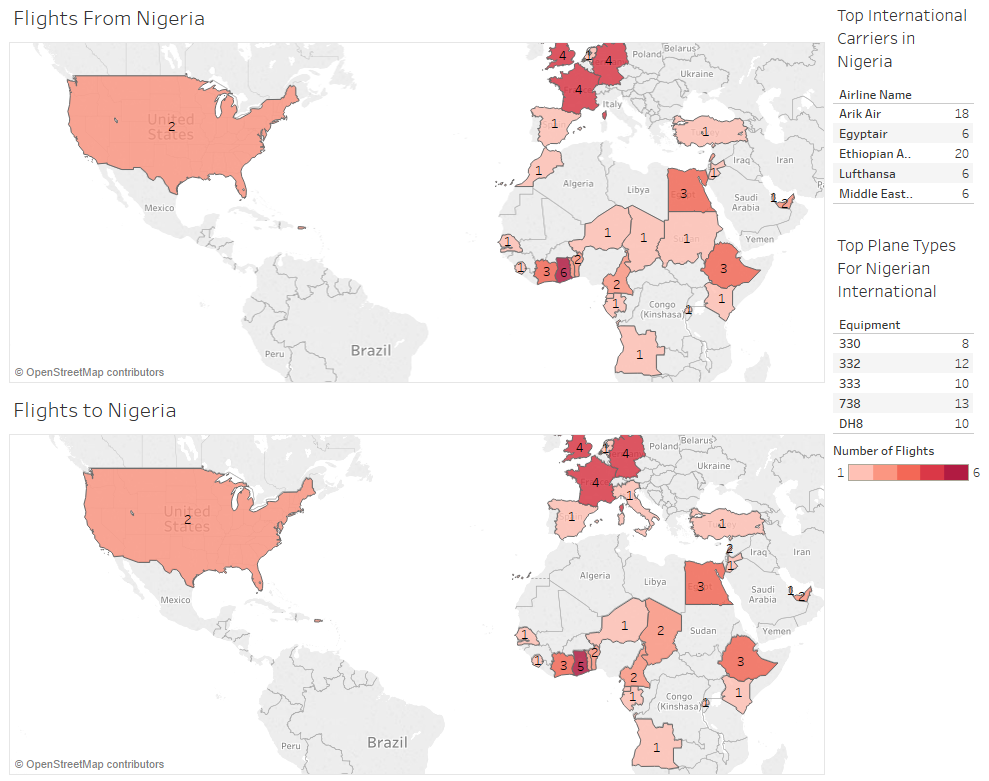

The dashboard page shown, as its layout file describes it:
{"tool":"tableau","page":{"name":"International","canvas":[1000,800],"ordinal":2},"visuals":[{"type":"worksheet","title":"Sheet 1","mark":"Multipolygon","box":[8,8,824,392]},{"type":"worksheet","title":"Sheet 3","mark":"Automatic","rows":["Airline_Name"],"box":[832,8,160,230]},{"type":"worksheet","title":"Sheet 4","mark":"Automatic","rows":["Equipment"],"box":[832,238,160,213]},{"type":"worksheet","title":"Sheet 2","mark":"Multipolygon","box":[8,400,824,392]},{"type":"legend","title":"Sheet 1","param":"[federated.0rj6t8b0dyc11x1e7mgod0npm8ta].[cnt:dest_Country:qk]","box":[832,451,160,74]}]}

Visuals, with their boxes in screenshot pixels (x1, y1, x2, y2), scaled from the page's 1000x800 canvas onto the 989x781 screenshot:
"Sheet 1" worksheet (Multipolygon marks): <bbox>8, 8, 823, 390</bbox>
"Sheet 3" worksheet: <bbox>823, 8, 981, 232</bbox>
"Sheet 4" worksheet: <bbox>823, 232, 981, 440</bbox>
"Sheet 2" worksheet (Multipolygon marks): <bbox>8, 390, 823, 773</bbox>
"Sheet 1" legend: <bbox>823, 440, 981, 513</bbox>
